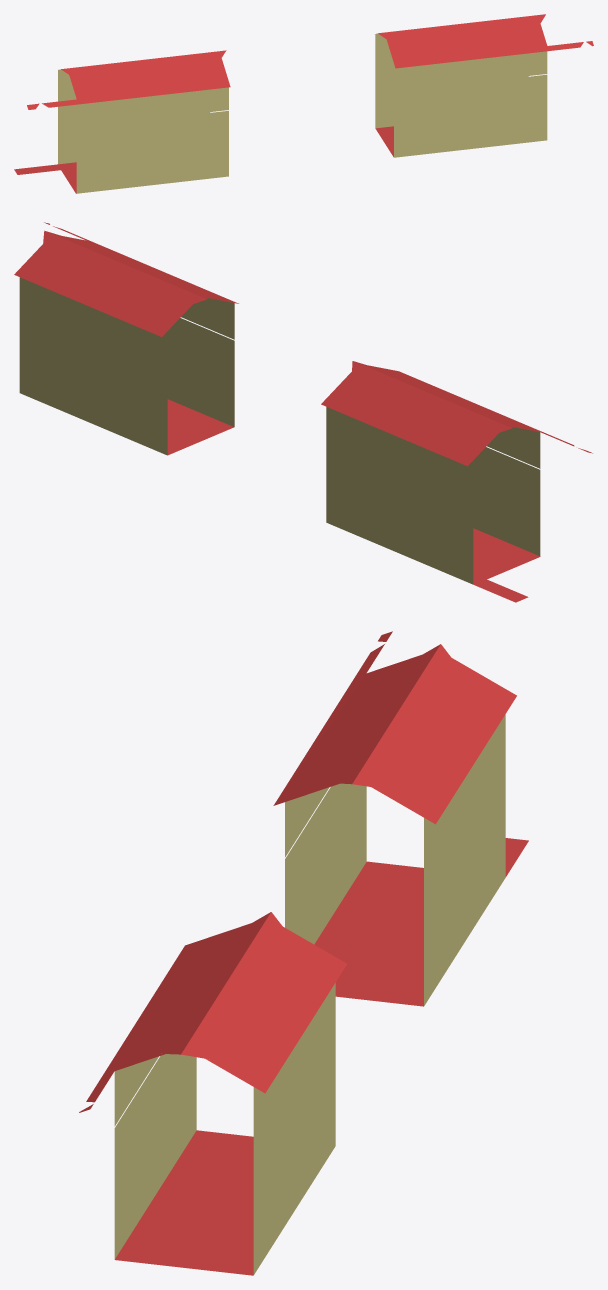
3 views of the same model, one above another, from view 1: azimuth 30°, elevation 25°; view 2: azimuth 150°, elevation 25°; view 3: azimuth 270°, elevation 25° (orthographic). The views are drawn at different scales.
Size of the model in its own units: 70.4 by 27.95 by 15.11.
